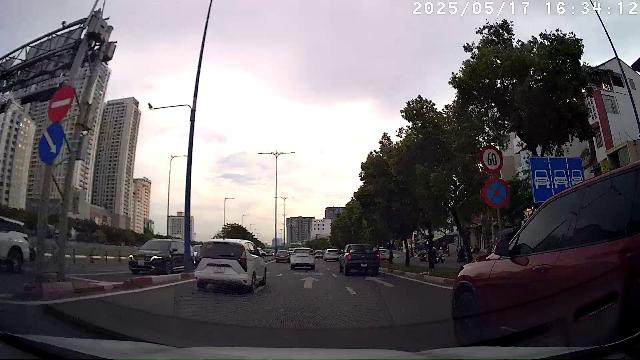102-cam-di-nguoc-chieu: (47, 86, 75, 122)
127-toc-do-toi-da-60: (480, 145, 504, 173)
130-cam-dung-va-do-xe: (482, 178, 510, 208)
302a-huong-phai-di-vong-chuong-ngai-vat-1: (38, 123, 64, 163)
